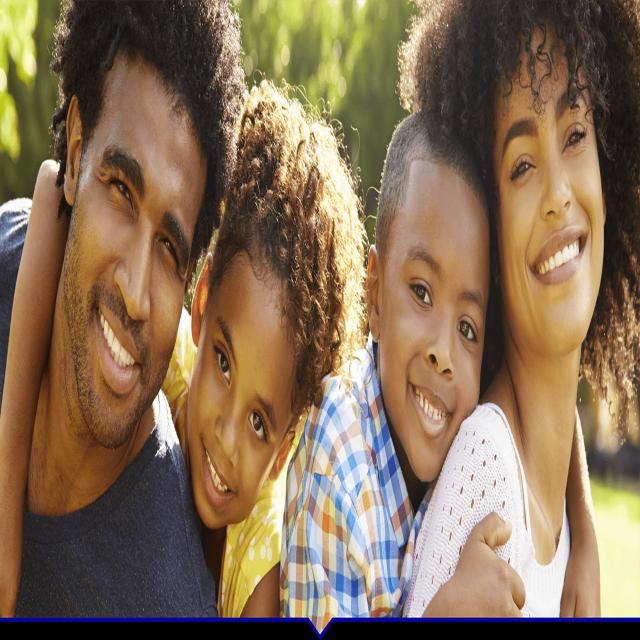adult: (395, 0, 640, 640), (0, 0, 235, 640)
child: (278, 107, 523, 640), (150, 77, 359, 636)
